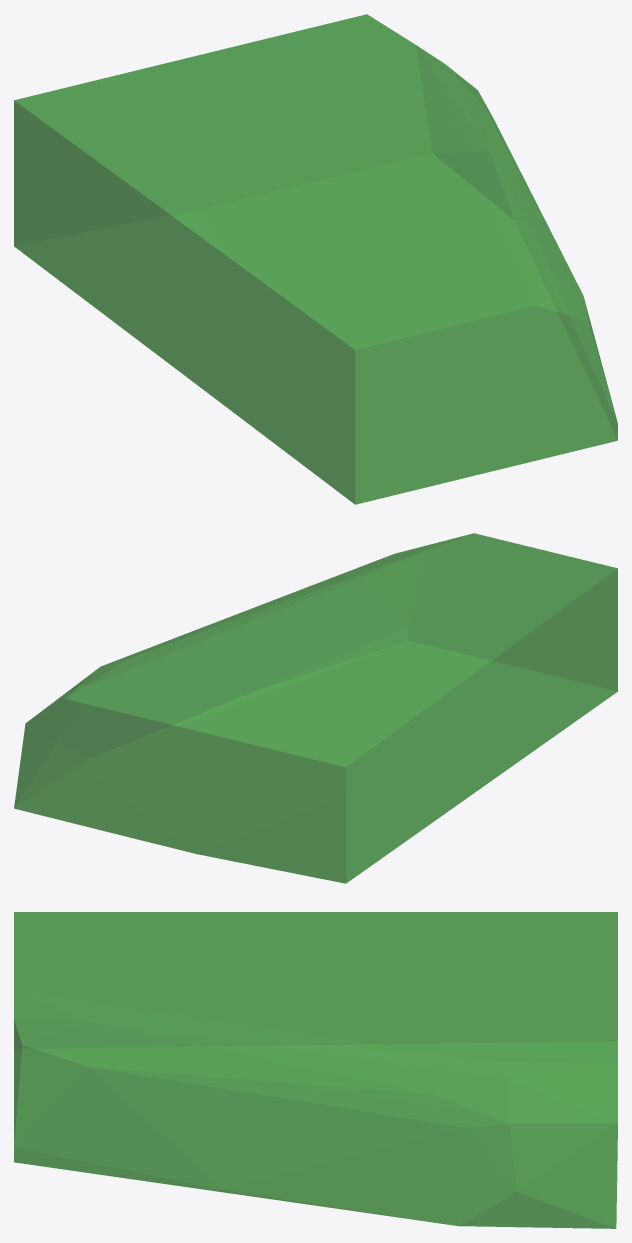
The picture shows the model from 3 angles, top to bottom: view 1: azimuth 30°, elevation 25°; view 2: azimuth 150°, elevation 25°; view 3: azimuth 270°, elevation 25°; orthographic projection. The views are drawn at different scales.
Parts seen in each view (by area): view 1: Shape_IndexedFaceSet.015_Shape_IndexedFaceSet.9150; view 2: Shape_IndexedFaceSet.015_Shape_IndexedFaceSet.9150; view 3: Shape_IndexedFaceSet.015_Shape_IndexedFaceSet.9150.
Part boxes in pixels (x1=…): Shape_IndexedFaceSet.015_Shape_IndexedFaceSet.9150: x1=14, y1=14, x2=617, y2=504; Shape_IndexedFaceSet.015_Shape_IndexedFaceSet.9150: x1=14, y1=533, x2=617, y2=883; Shape_IndexedFaceSet.015_Shape_IndexedFaceSet.9150: x1=14, y1=912, x2=617, y2=1228.
Bounding box in the file's own units: 0.1369 × 0.0483 × 0.1933.
